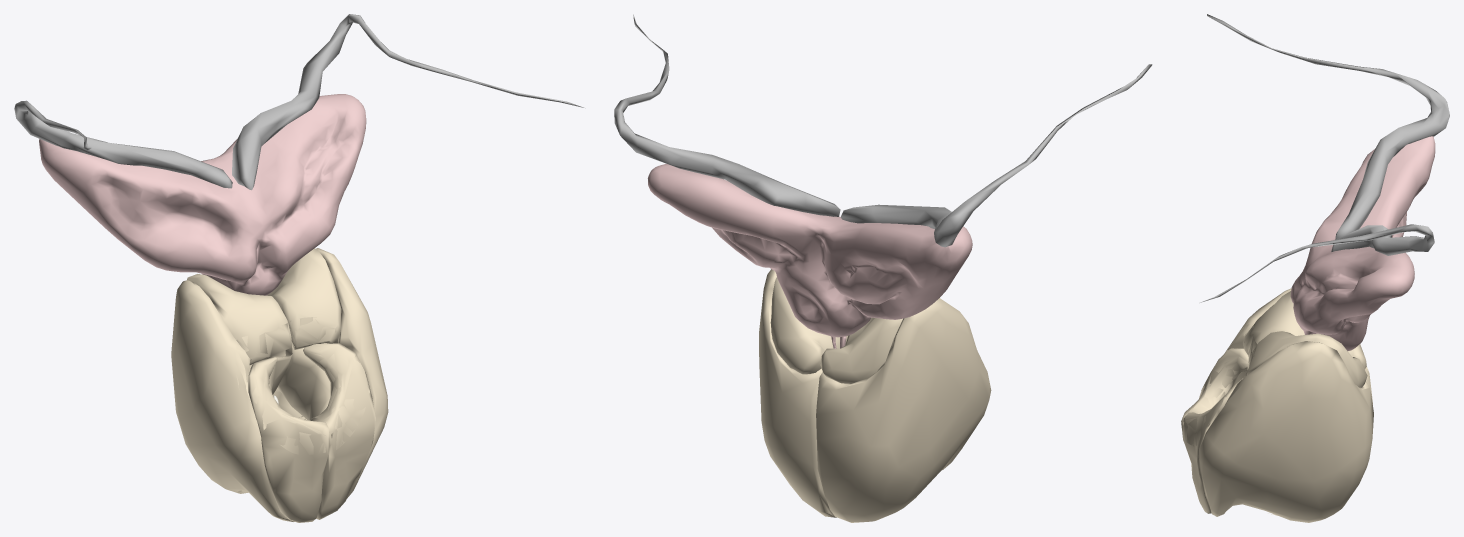
Rendered from vh_m_prostate-20.glb.
3 renders of one model, left to right at view 1: azimuth 30°, elevation 25°; view 2: azimuth 150°, elevation 25°; view 3: azimuth 270°, elevation 25°, orthographic. The views are drawn at different scales.
Visible parts, largest first — view 1: VH_M_seminal_vesicle, VH_M_peripheral_zone_of_prostate_R, VH_M_anterior_fibromuscular_stroma_R, VH_M_anterior_fibromuscular_stroma_L, VH_M_vas_deferens_R, VH_M_base_of_prostate, VH_M_vas_deferens_L, VH_M_central_zone_of_prostate_L, VH_M_peripheral_zone_of_prostate_L, VH_M_central_zone_of_prostate_R, VH_M_transition_zone__of_prostate_L; view 2: VH_M_peripheral_zone_of_prostate_R, VH_M_seminal_vesicle, VH_M_peripheral_zone_of_prostate_L, VH_M_vas_deferens_R, VH_M_vas_deferens_L, VH_M_central_zone_of_prostate_R, VH_M_central_zone_of_prostate_L; view 3: VH_M_peripheral_zone_of_prostate_L, VH_M_seminal_vesicle, VH_M_vas_deferens_L, VH_M_vas_deferens_R, VH_M_central_zone_of_prostate_L, VH_M_central_zone_of_prostate_R, VH_M_anterior_fibromuscular_stroma_L, VH_M_base_of_prostate, VH_M_anterior_fibromuscular_stroma_R, VH_M_peripheral_zone_of_prostate_R.
Boxes of the visible parts, <box> form: VH_M_seminal_vesicle: <box>39,94,366,295</box>; VH_M_peripheral_zone_of_prostate_R: <box>171,280,294,521</box>; VH_M_anterior_fibromuscular_stroma_R: <box>248,357,329,522</box>; VH_M_anterior_fibromuscular_stroma_L: <box>303,343,375,519</box>; VH_M_vas_deferens_R: <box>232,14,583,190</box>; VH_M_base_of_prostate: <box>235,317,369,454</box>; VH_M_vas_deferens_L: <box>14,100,232,188</box>; VH_M_central_zone_of_prostate_L: <box>267,248,341,349</box>; VH_M_peripheral_zone_of_prostate_L: <box>273,248,388,498</box>; VH_M_central_zone_of_prostate_R: <box>187,274,292,365</box>; VH_M_transition_zone__of_prostate_L: <box>277,344,330,420</box>; VH_M_peripheral_zone_of_prostate_R: <box>816,298,991,522</box>; VH_M_seminal_vesicle: <box>647,164,972,337</box>; VH_M_peripheral_zone_of_prostate_L: <box>759,269,836,517</box>; VH_M_vas_deferens_R: <box>614,14,840,216</box>; VH_M_vas_deferens_L: <box>841,64,1152,247</box>; VH_M_central_zone_of_prostate_R: <box>820,317,902,383</box>; VH_M_central_zone_of_prostate_L: <box>770,277,847,374</box>; VH_M_peripheral_zone_of_prostate_L: <box>1199,341,1373,522</box>; VH_M_seminal_vesicle: <box>1290,136,1435,350</box>; VH_M_vas_deferens_L: <box>1207,14,1449,239</box>; VH_M_vas_deferens_R: <box>1200,224,1434,302</box>; VH_M_central_zone_of_prostate_L: <box>1243,331,1367,387</box>; VH_M_central_zone_of_prostate_R: <box>1243,291,1366,369</box>; VH_M_anterior_fibromuscular_stroma_L: <box>1182,379,1242,513</box>; VH_M_base_of_prostate: <box>1183,324,1257,446</box>; VH_M_anterior_fibromuscular_stroma_R: <box>1181,348,1248,441</box>; VH_M_peripheral_zone_of_prostate_R: <box>1201,288,1372,404</box>.
Bounding box in the file's own units: 0.0828 × 0.0703 × 0.0428.
